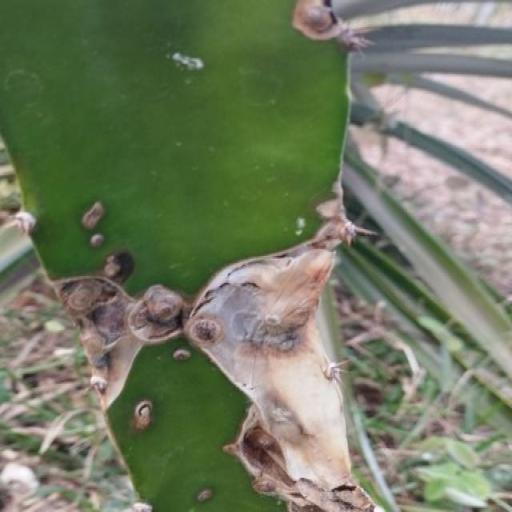stemcanker: (206, 66, 219, 112), (127, 102, 137, 142)
